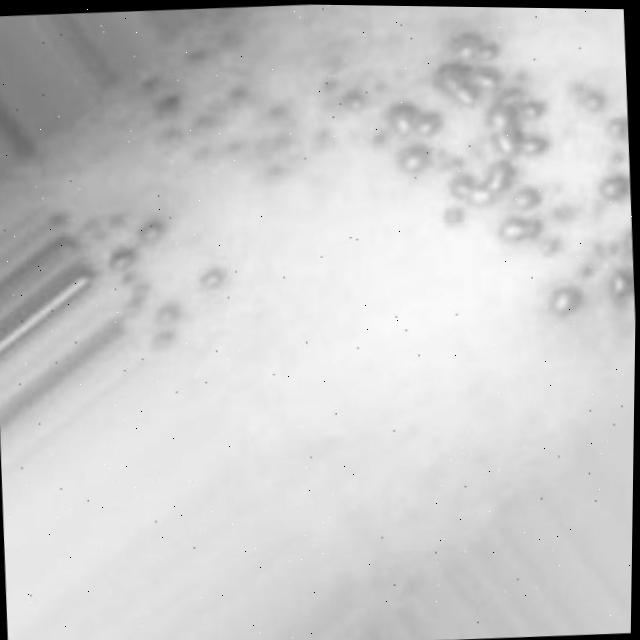Shingles: (93, 25, 640, 355)
